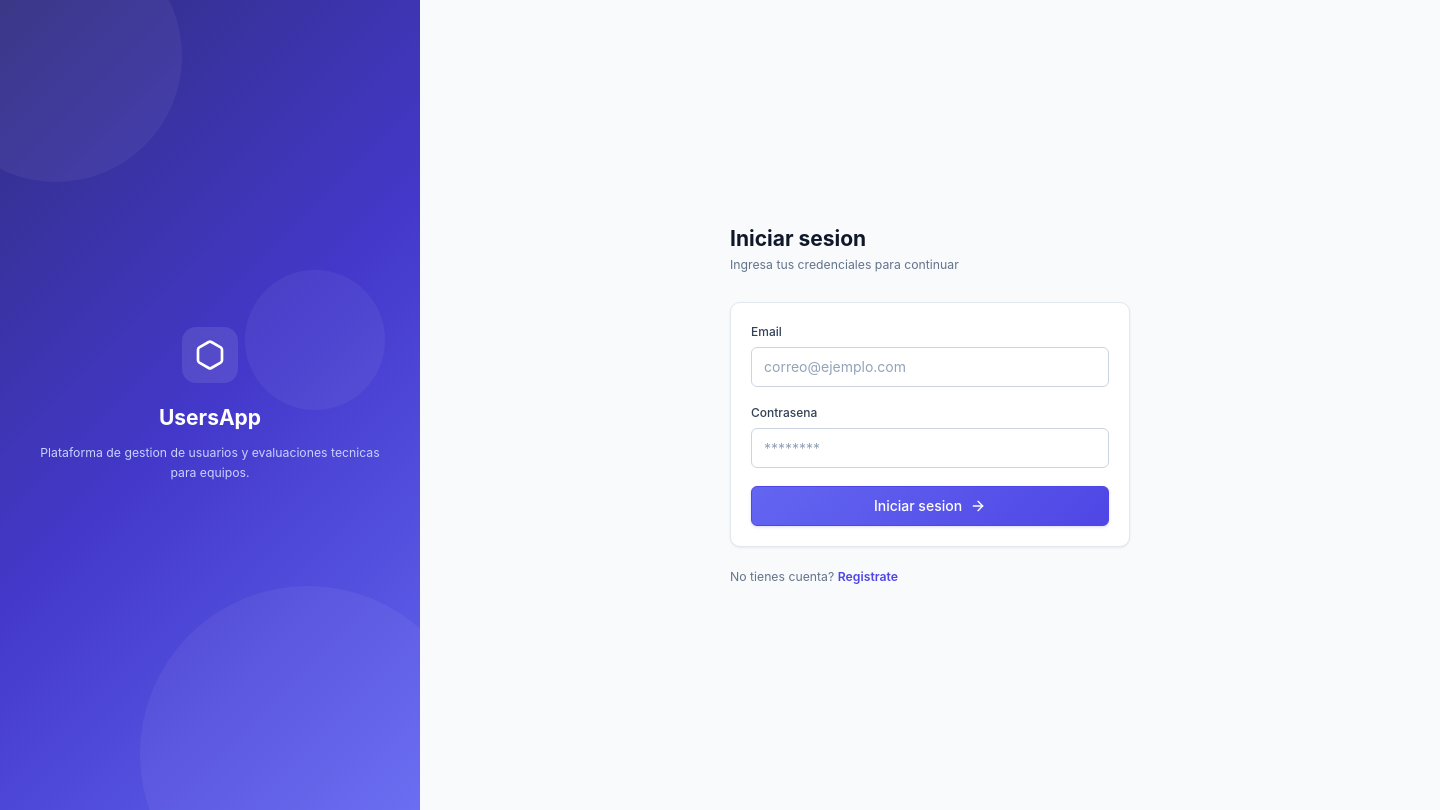
Test: Login Page › debe mostrar error si password está vacía
Type "test@test.com" into the field labelled "Email" at (930, 367), box [751, 347, 1109, 387]
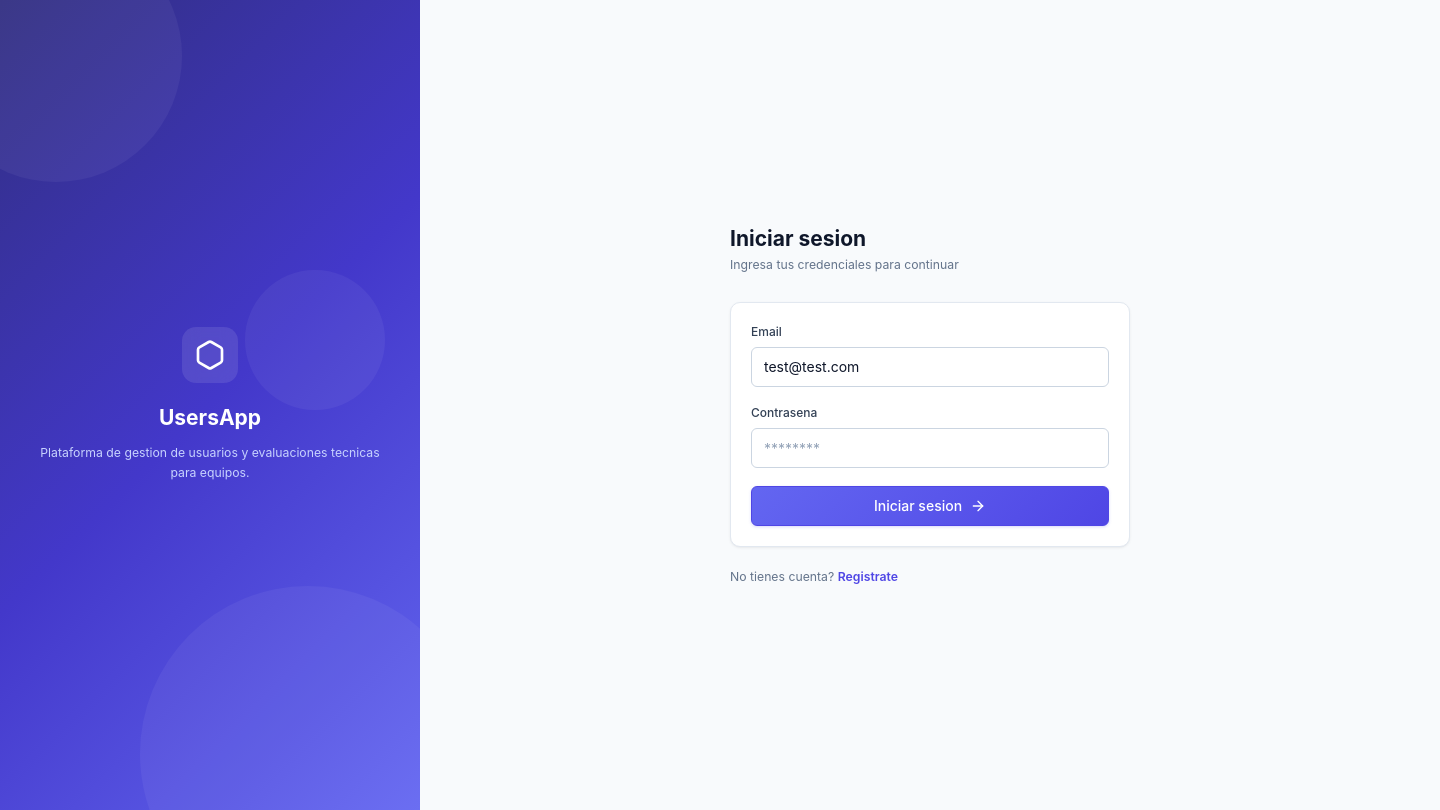
Click the button "Iniciar sesion" at (930, 506), box [751, 486, 1109, 526]
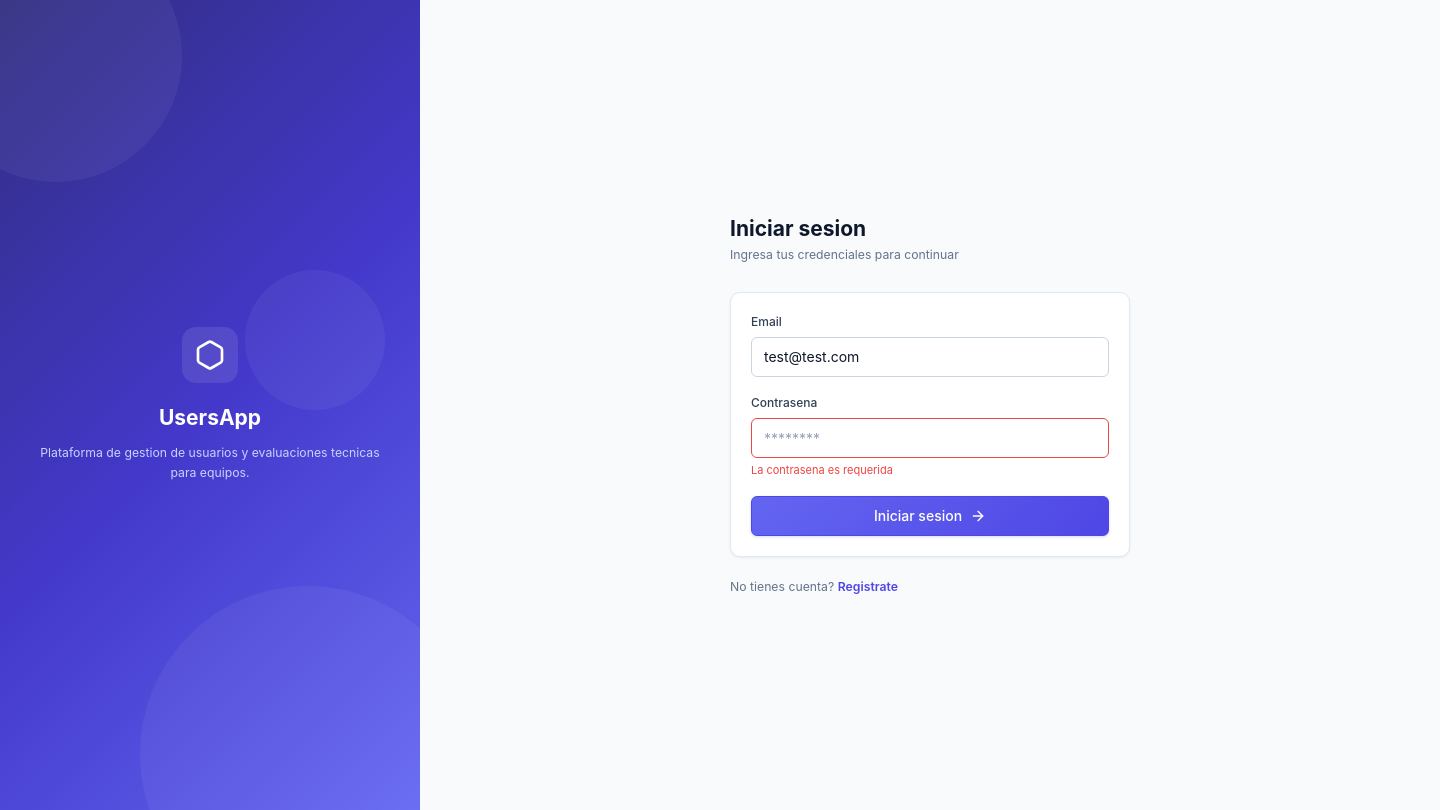
Expected: the text "La contrasena es requerida" is shown, [751, 463, 893, 477]
